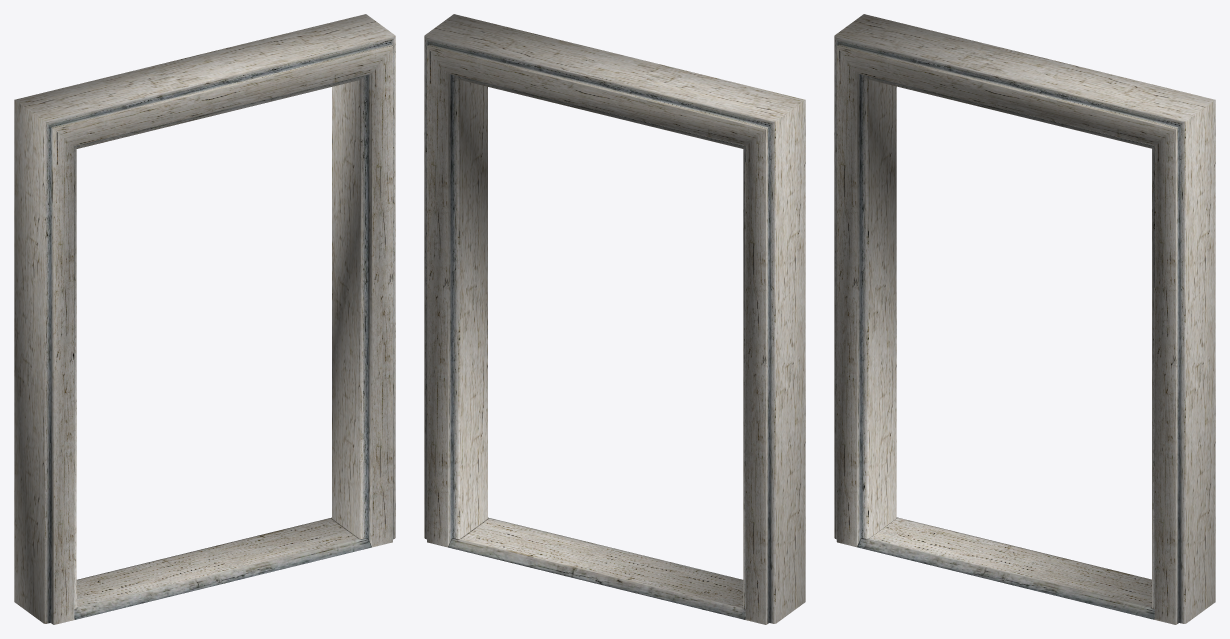
Rendered from waitingroom_damaged_flat_doorframe.dae.
3 views of the same model, side by side, from view 1: azimuth 30°, elevation 25°; view 2: azimuth 150°, elevation 25°; view 3: azimuth 330°, elevation 25° (orthographic).
Parts seen in each view (by area): view 1: pCube2; view 2: pCube2; view 3: pCube2.
Part boxes in pixels (left/top/right/bottom): pCube2: left=14, top=14, right=395, bottom=624; pCube2: left=424, top=14, right=805, bottom=624; pCube2: left=834, top=14, right=1215, bottom=624.
Bounding box in the file's own units: 2.17 × 2.97 × 0.4.
